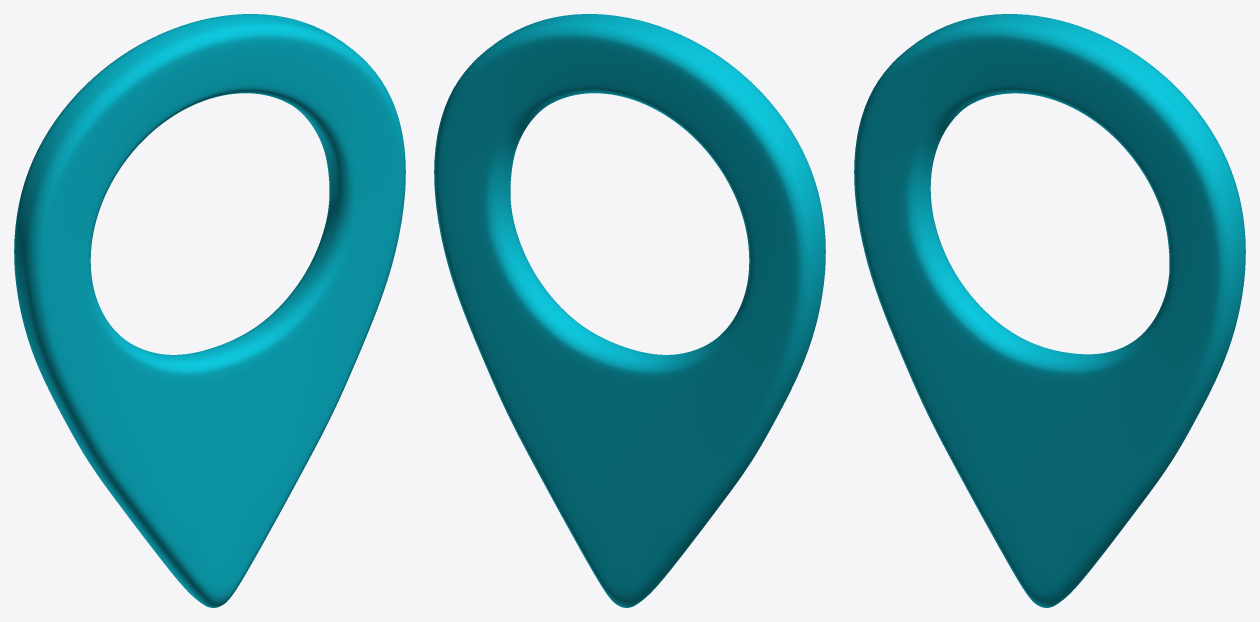
File: location.gltf
3 renders of one model, left to right at view 1: azimuth 30°, elevation 25°; view 2: azimuth 150°, elevation 25°; view 3: azimuth 330°, elevation 25°, orthographic.
Parts seen in each view (by area): view 1: Cylinder.007; view 2: Cylinder.007; view 3: Cylinder.007.
Boxes of the visible parts, x1,y1,x2,y2 form: Cylinder.007: (14,14,405,607); Cylinder.007: (434,14,825,607); Cylinder.007: (854,14,1245,607).
Bounding box in the file's own units: 1.93 × 2.81 × 0.2194.
